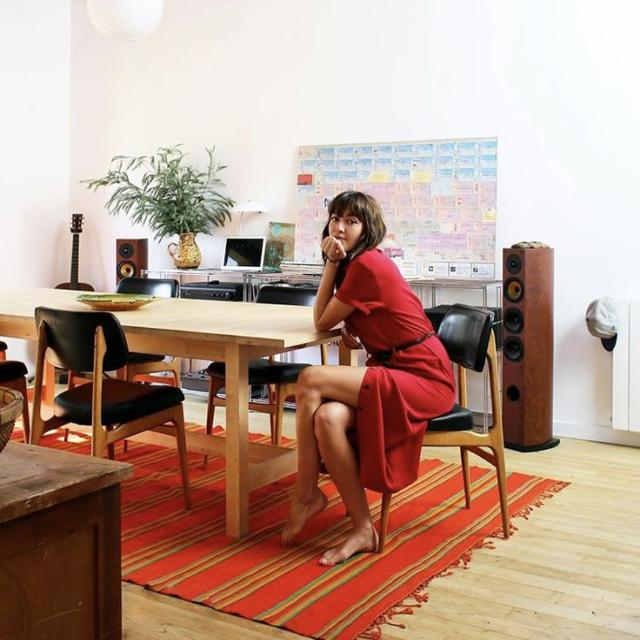obstacle: (0, 286, 348, 538), (30, 306, 192, 510), (201, 283, 324, 470)
person: (279, 189, 457, 567)
